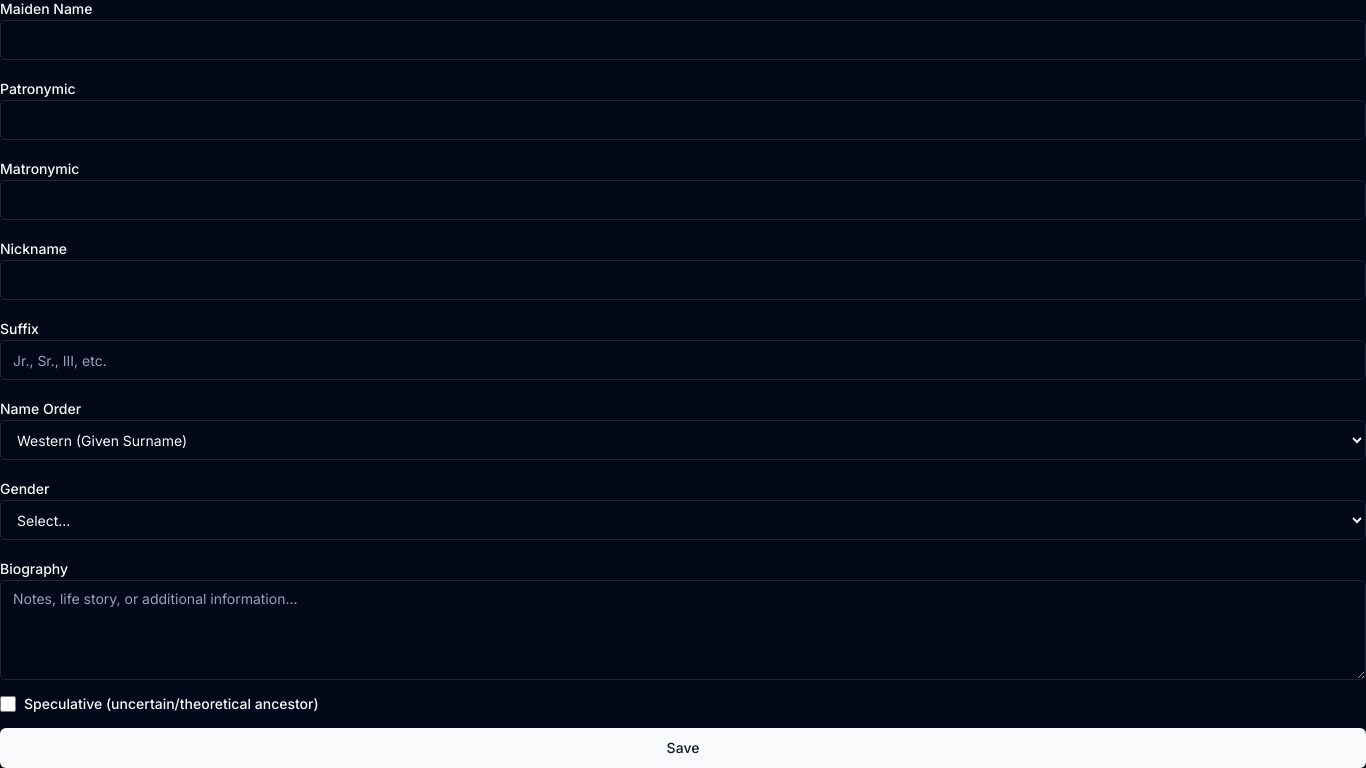
Test case: PersonForm › Validation (INV-U003: Zod) › should validate required givenName
(page scrolled)
# Try to submit without name
Click the button "Save": (683, 748) [0,728,1365,767]
(page scrolled)
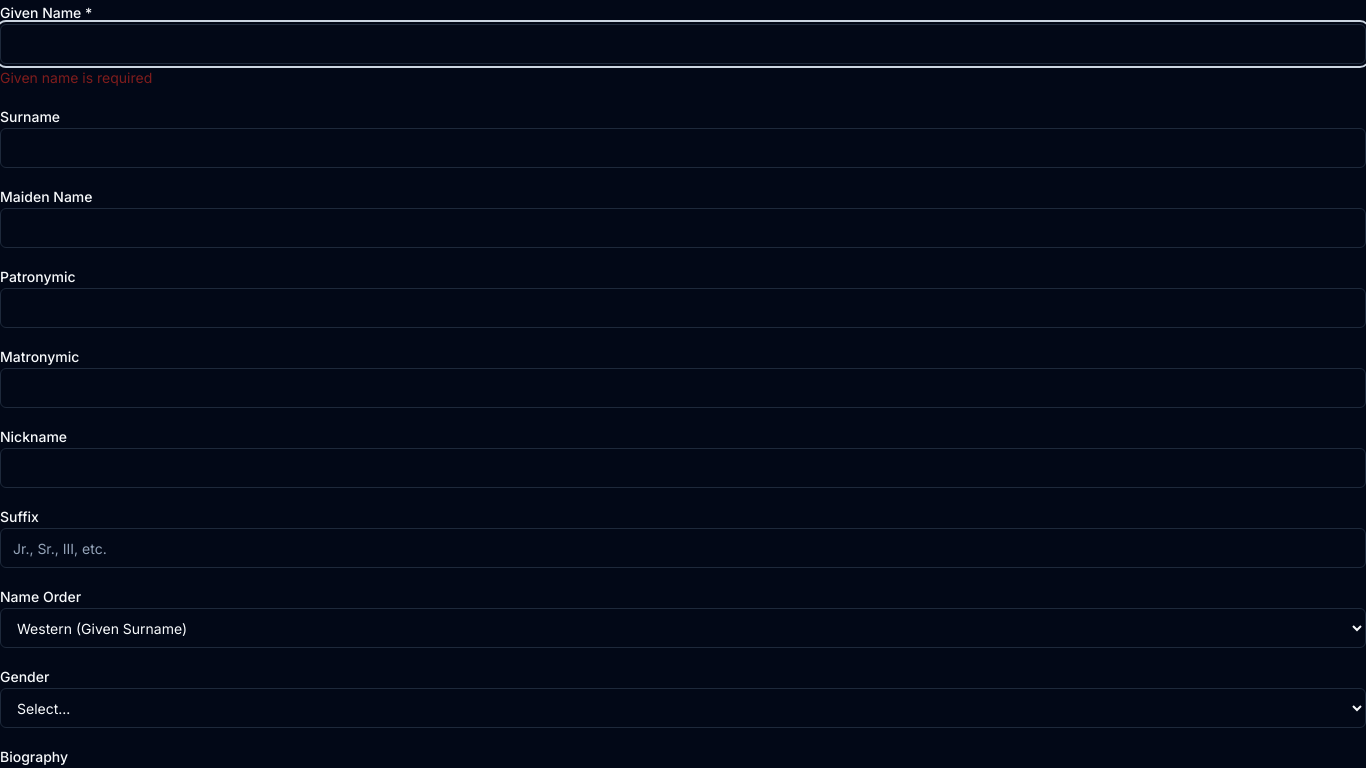
Check: the text "Given name is required" is shown, box [0,69,152,86]
